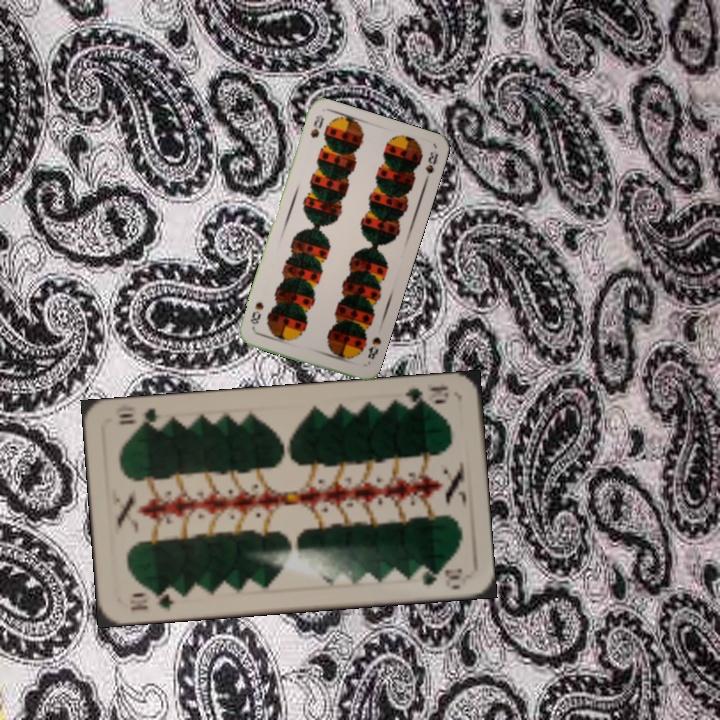G10: (401, 381, 451, 409), (126, 587, 176, 614)
S8: (306, 111, 326, 141), (364, 333, 384, 362)
